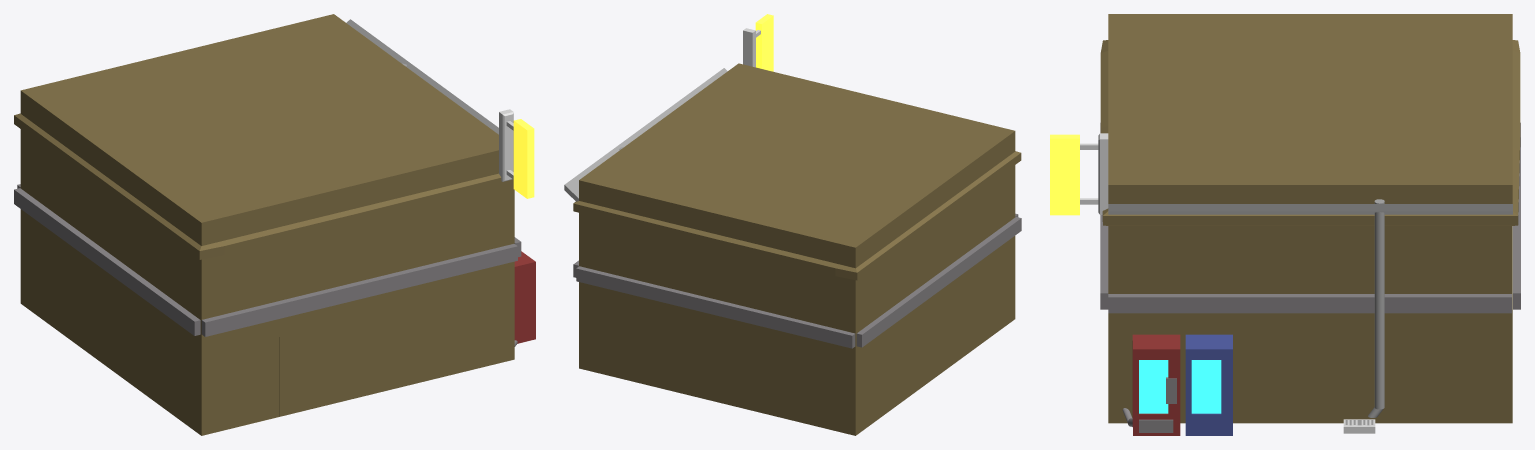
Rendered from building.glb.
3 renders of one model, left to right at view 1: azimuth 30°, elevation 25°; view 2: azimuth 150°, elevation 25°; view 3: azimuth 270°, elevation 25°, orthographic. The views are drawn at different scales.
Visible parts, largest first — view 1: Cube, Cube.006, Cube.011, Cube.017, Cube.015, Cube.002, Cube.012; view 2: Cube, Cube.009, Cube.011, Cube.002, Cube.015, Cube.012; view 3: Cube, Cube.010, Cube.002, Cube.007, Cube.017, Cube.015, Cylinder.001, Cube.008, Cube.016, Cube.009, Cube.012, Cube.006 (+2 smaller).
Part boxes in pixels (x1,y1,x2,y2): Cube: [14, 14, 514, 435]; Cube.006: [201, 243, 517, 336]; Cube.011: [14, 188, 200, 335]; Cube.017: [514, 251, 535, 343]; Cube.015: [513, 119, 534, 198]; Cube.002: [346, 19, 498, 134]; Cube.012: [499, 109, 513, 181]; Cube: [573, 63, 1021, 435]; Cube.009: [576, 266, 855, 348]; Cube.011: [856, 217, 1021, 347]; Cube.002: [564, 68, 727, 201]; Cube.015: [755, 14, 773, 71]; Cube.012: [743, 28, 755, 67]; Cube: [1100, 14, 1520, 423]; Cube.010: [1108, 294, 1511, 313]; Cube.002: [1108, 204, 1512, 214]; Cube.007: [1185, 334, 1232, 435]; Cube.017: [1132, 334, 1180, 435]; Cube.015: [1050, 134, 1079, 215]; Cylinder.001: [1368, 199, 1384, 417]; Cube.008: [1191, 360, 1221, 413]; Cube.016: [1139, 360, 1168, 413]; Cube.009: [1513, 122, 1520, 309]; Cube.012: [1098, 133, 1108, 214]; Cube.006: [1100, 123, 1108, 309].
Size of what is drawn, in the model's own units: 14.06 by 9.65 by 14.5.
